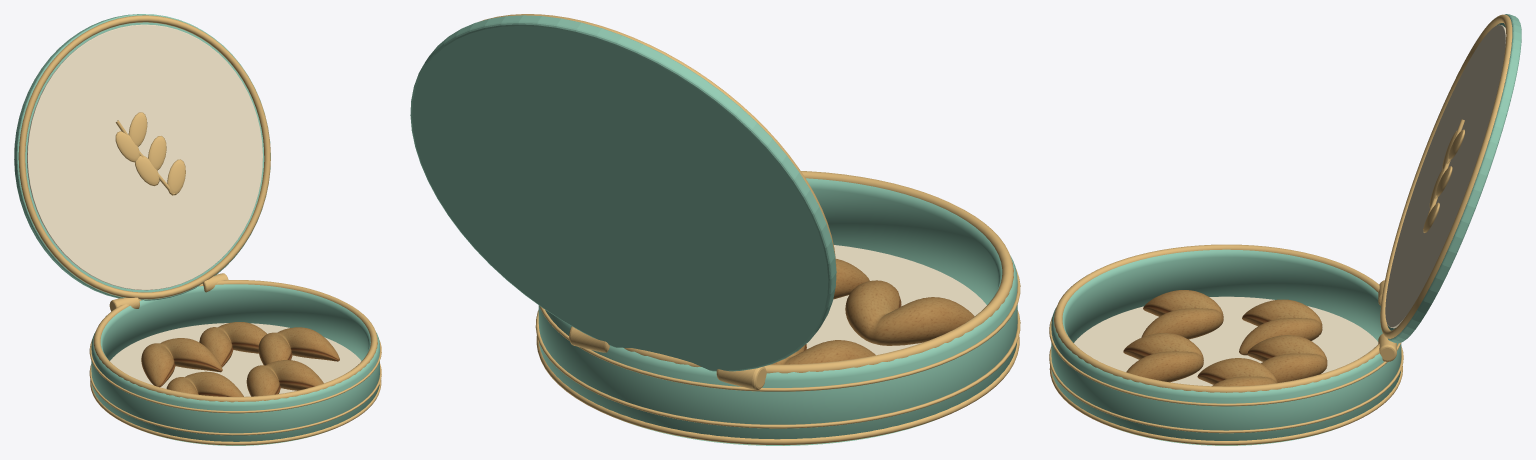
The model's file is cookie_tin_filled.glb.
3 views of the same model, side by side, from view 1: azimuth 30°, elevation 25°; view 2: azimuth 150°, elevation 25°; view 3: azimuth 270°, elevation 25° (orthographic). The views are drawn at different scales.
Visible parts, largest first — view 1: Cream lid inner.001, Enamel shell.001, Lid brass roll.001, Solid biscuit floor.001, Mint lid shell.001, Rolled brass rim.004, PickCookie_04, PickCookie_03, PickCookie_02, PickCookie_05, PickCookie_01, Rolled brass rim.005 (+7 smaller); view 2: Mint lid shell.001, Enamel shell.001, Solid biscuit floor.001, PickCookie_01, Rolled brass rim.004, Rolled brass rim.005, Rolled brass rim.006, Rolled brass rim.007, PickCookie_04, Lid brass roll.001, PickCookie_02, Lid hinge.002; view 3: Enamel shell.001, Cream lid inner.001, Solid biscuit floor.001, Rolled brass rim.004, Lid brass roll.001, Mint lid shell.001, PickCookie_01, PickCookie_02, PickCookie_04, PickCookie_05, Rolled brass rim.005, PickCookie_03 (+2 smaller).
Boxes of the visible parts, left/top/right/bottom form: Cream lid inner.001: left=27, top=24, right=262, bottom=290; Enamel shell.001: left=91, top=284, right=379, bottom=445; Lid brass roll.001: left=18, top=15, right=270, bottom=299; Solid biscuit floor.001: left=110, top=323, right=361, bottom=396; Mint lid shell.001: left=14, top=14, right=270, bottom=300; Rolled brass rim.004: left=93, top=280, right=377, bottom=402; PickCookie_04: left=141, top=338, right=222, bottom=387; PickCookie_03: left=258, top=327, right=339, bottom=365; PickCookie_02: left=246, top=360, right=323, bottom=396; PickCookie_05: left=199, top=322, right=266, bottom=367; PickCookie_01: left=166, top=371, right=243, bottom=396; Rolled brass rim.005: left=90, top=379, right=381, bottom=445; Mint lid shell.001: left=410, top=15, right=836, bottom=371; Enamel shell.001: left=538, top=178, right=1017, bottom=445; Solid biscuit floor.001: left=806, top=245, right=986, bottom=355; PickCookie_01: left=845, top=280, right=974, bottom=345; Rolled brass rim.004: left=624, top=171, right=1013, bottom=373; Rolled brass rim.005: left=536, top=336, right=1019, bottom=445; Rolled brass rim.006: left=535, top=310, right=1020, bottom=428; Rolled brass rim.007: left=539, top=269, right=1020, bottom=391; PickCookie_04: left=771, top=340, right=875, bottom=364; Lid brass roll.001: left=480, top=14, right=836, bottom=266; PickCookie_02: left=833, top=259, right=869, bottom=299; Lid hinge.002: left=716, top=366, right=766, bottom=390; Enamel shell.001: left=1051, top=249, right=1401, bottom=445; Cream lid inner.001: left=1385, top=24, right=1506, bottom=328; Solid biscuit floor.001: left=1074, top=296, right=1378, bottom=386; Rolled brass rim.004: left=1054, top=244, right=1379, bottom=392; Lid brass roll.001: left=1380, top=14, right=1512, bottom=338; Mint lid shell.001: left=1387, top=14, right=1521, bottom=343; PickCookie_01: left=1141, top=290, right=1223, bottom=339; PickCookie_02: left=1123, top=333, right=1203, bottom=382; PickCookie_04: left=1239, top=299, right=1322, bottom=355; PickCookie_05: left=1247, top=335, right=1327, bottom=382; Rolled brass rim.005: left=1049, top=365, right=1402, bottom=445; PickCookie_03: left=1197, top=358, right=1277, bottom=386.
Bounding box in the file's own units: 3.59 × 3.82 × 4.78.
Materials: 4 (1 with a texture image).
